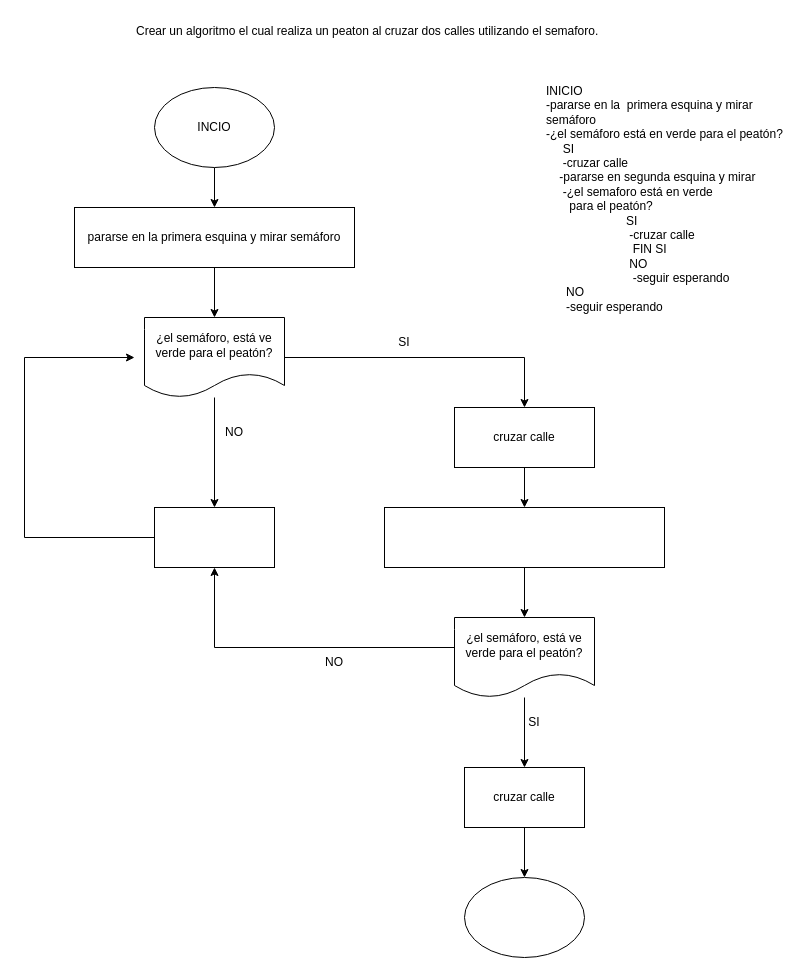
Image size: 812x975. Some labels were removed from this diagram. The shapes that lost their labels are listed below. From the top down, each one's centre as x and y in pixels, then its label:
At pixel 214 537: "seguir esprando".
At pixel 524 537: "pararse en la segunda esquina y mirar semáforo".
At pixel 524 917: "FIN".
